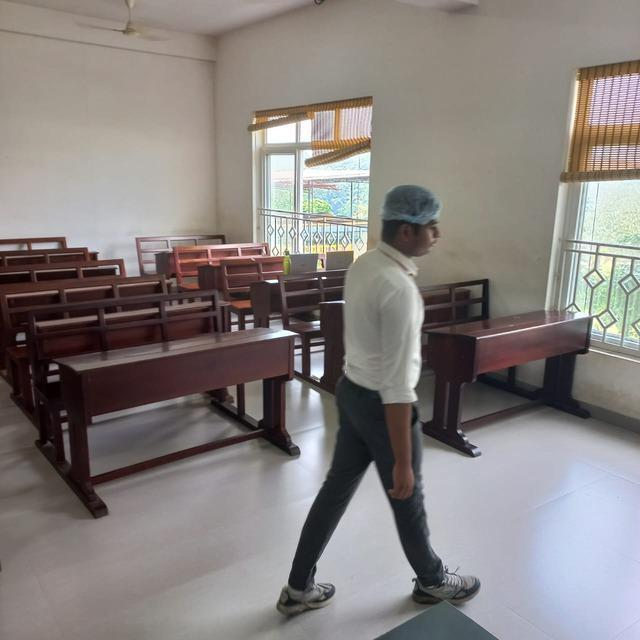bare_hand: (375, 444, 439, 505)
